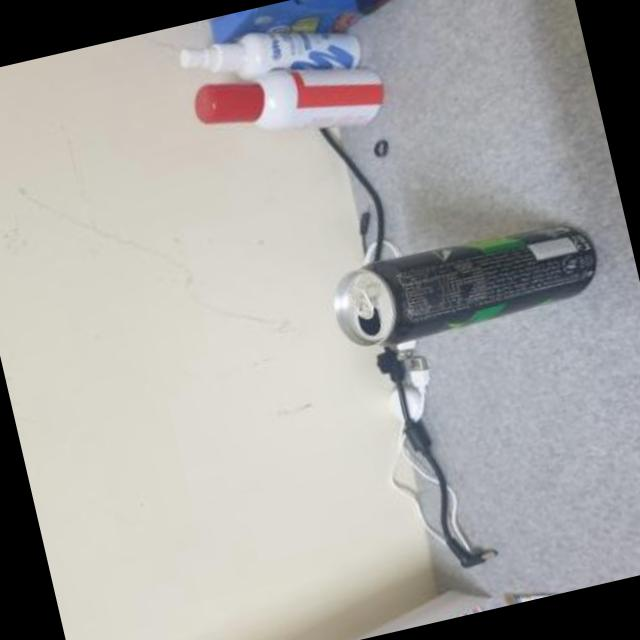metal: (331, 223, 591, 342)
